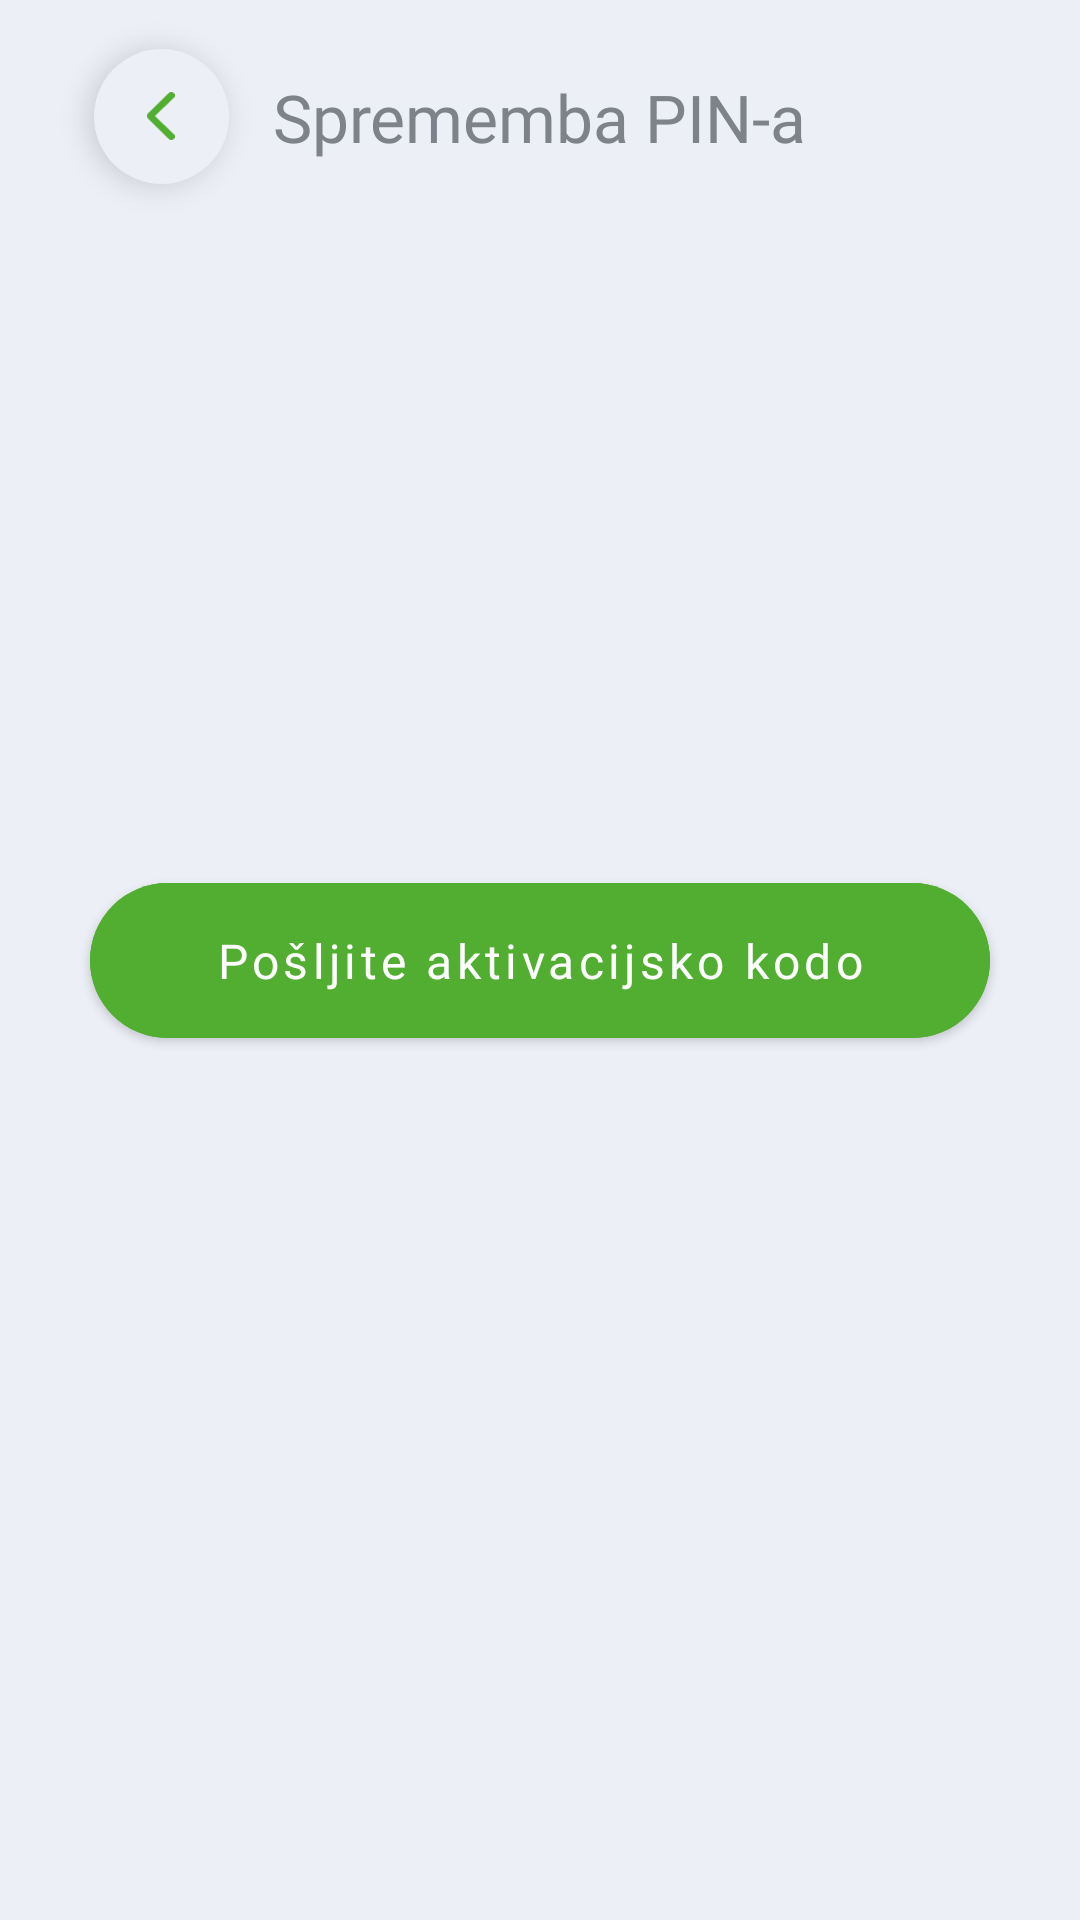

Icon bounding boxes for this 1080*1920 phone screenshot, format box(x1, y1, x2, y2):
back: box(147, 92, 175, 140)
